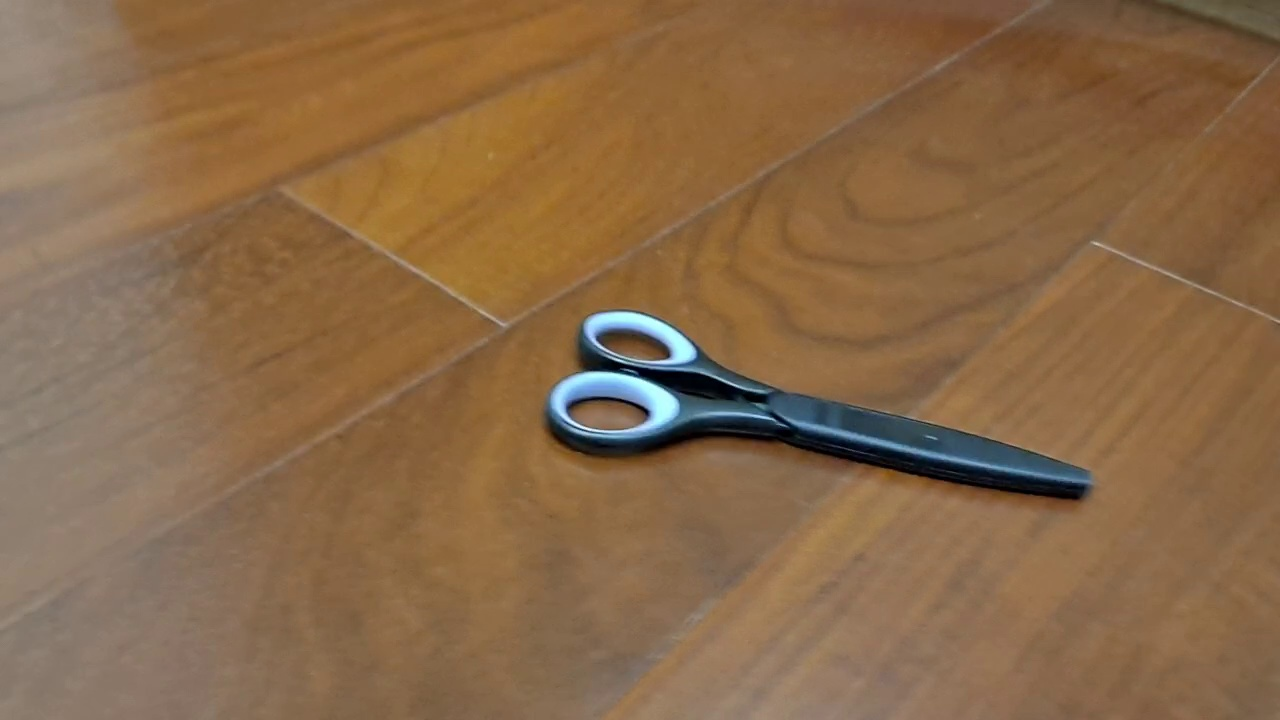scissors: (543, 308, 1097, 502)
